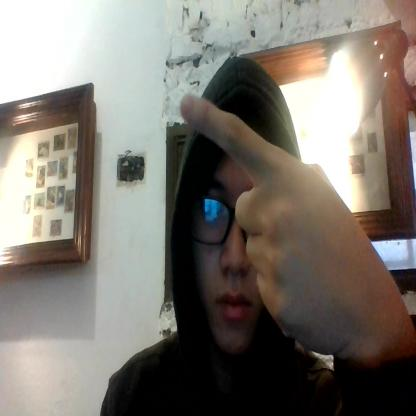right: (179, 89, 387, 356)
